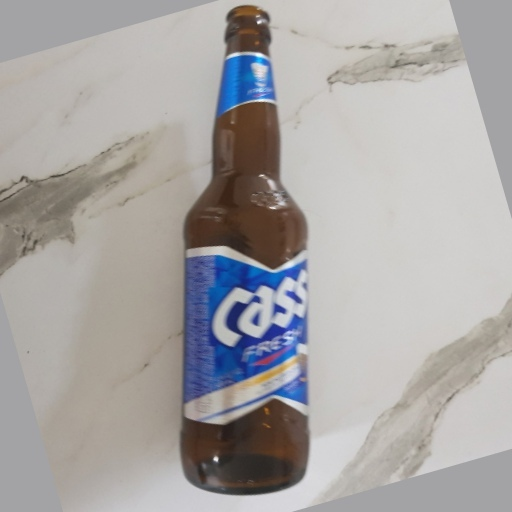Glass_1: (175, 4, 313, 498)
